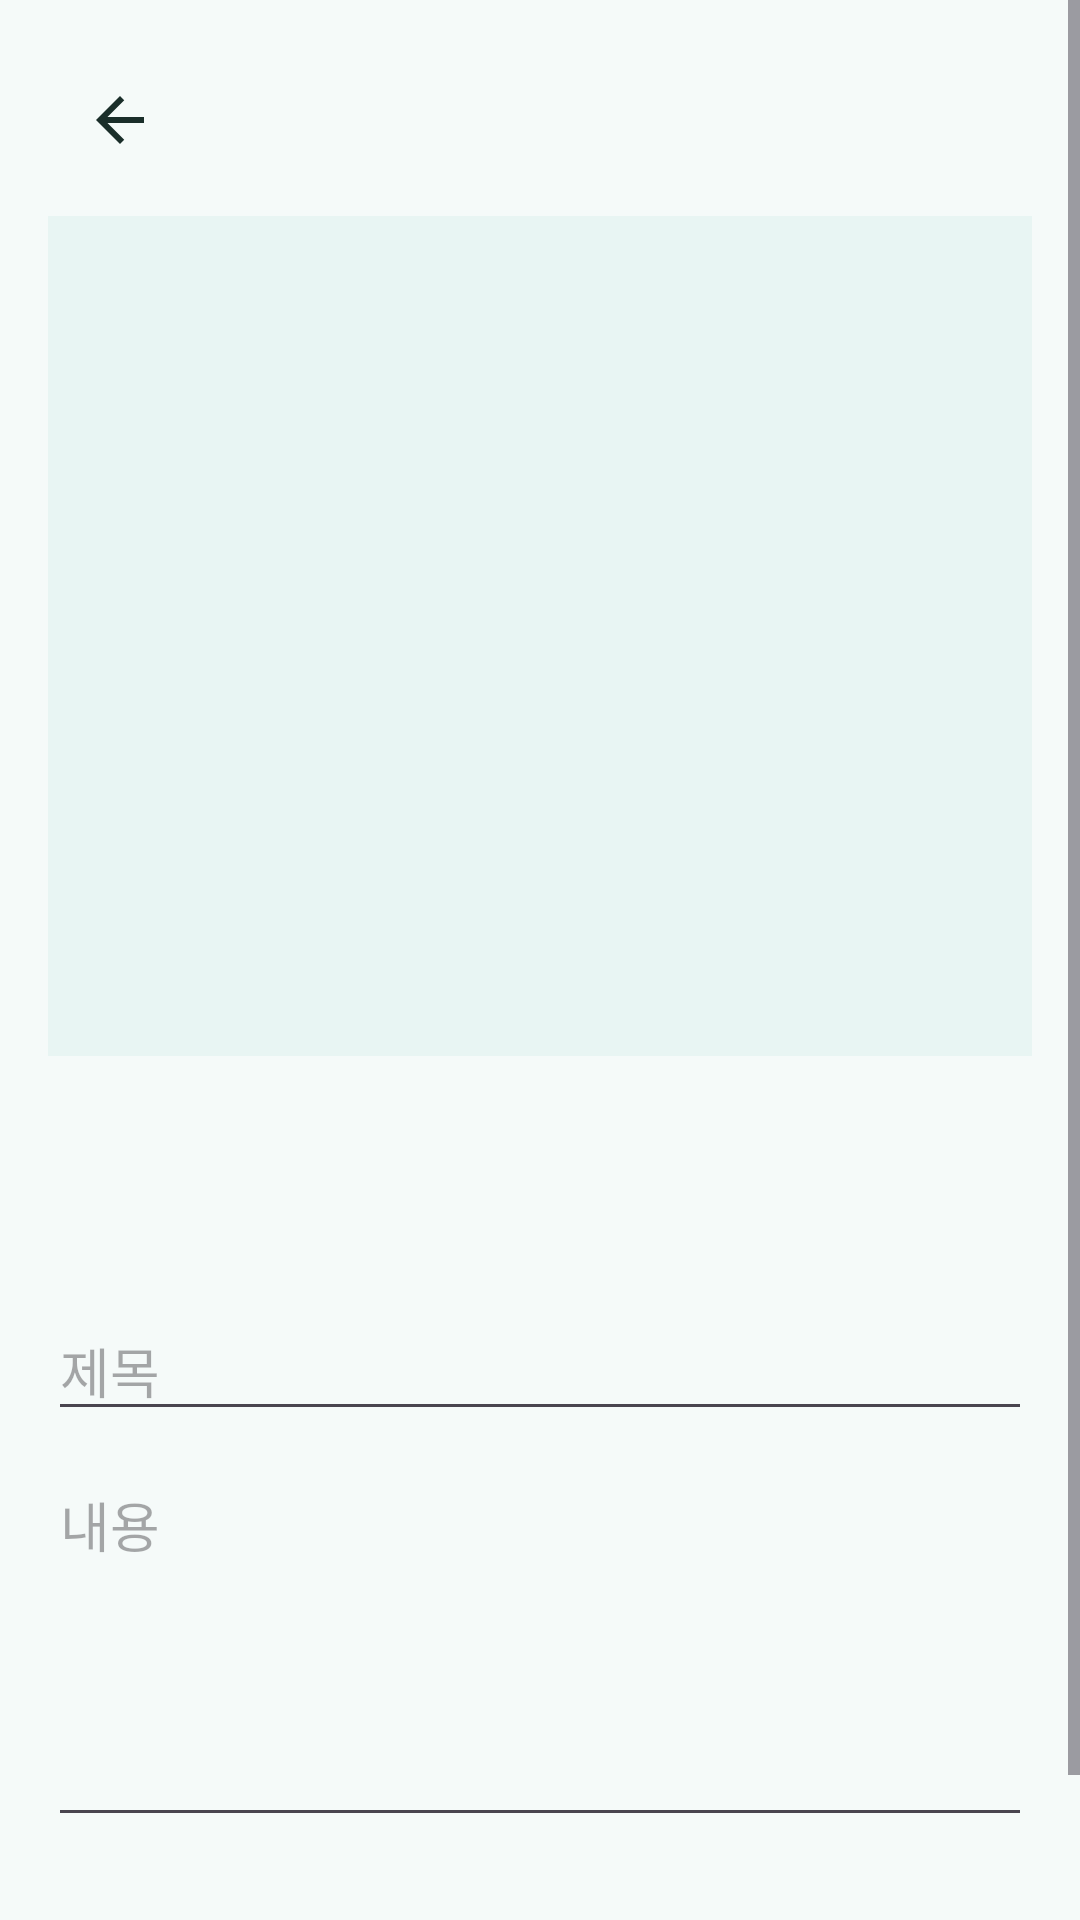

Screen size 1080px x 1920px. Icon name, then its box in pixels as (x1, y1, x2, y2):
뒤로가기: (96, 96, 144, 144)
